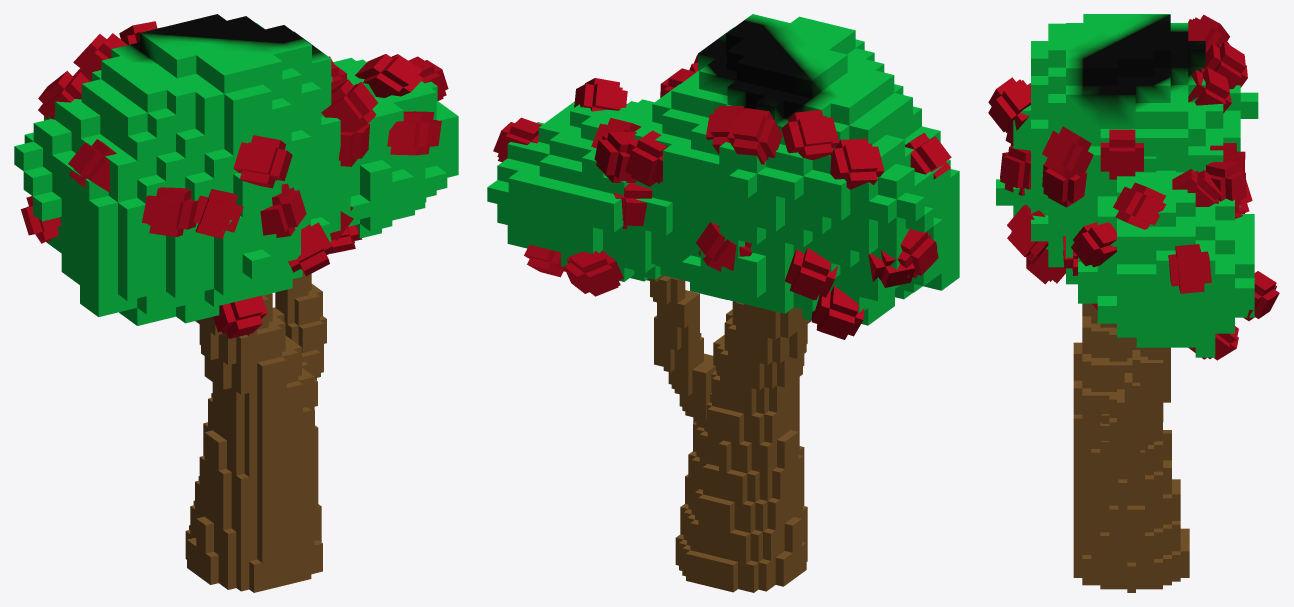
Rendered from appletree.fbx.
The picture shows the model from 3 angles, left to right: view 1: azimuth 30°, elevation 25°; view 2: azimuth 150°, elevation 25°; view 3: azimuth 270°, elevation 25°; orthographic projection. The views are drawn at different scales.
Parts seen in each view (by area): view 1: Sphere, Cylinder, Sphere.001, Cylinder.001, Sphere|Sphere.002|Dupli|10, Sphere|Sphere.002|Dupli|23, Sphere.001|Sphere.002|Dupli|4, Sphere.001|Sphere.002|Dupli|3, Sphere|Sphere.002|Dupli|12, Sphere|Sphere.002|Dupli|24, Sphere|Sphere.002|Dupli|8, Sphere|Sphere.002|Dupli|19 (+7 smaller); view 2: Sphere, Cylinder, Sphere.001, Cylinder.001, Sphere|Sphere.002|Dupli|6, Sphere|Sphere.002|Dupli|20, Sphere|Sphere.002|Dupli|5, Sphere.001|Sphere.002|Dupli|2, Sphere|Sphere.002|Dupli|3, Sphere|Sphere.002|Dupli|4, Sphere|Sphere.002|Dupli|18, Sphere|Sphere.002|Dupli|17 (+9 smaller); view 3: Sphere, Cylinder, Sphere.001, Cylinder.001, Sphere|Sphere.002|Dupli|12, Sphere|Sphere.002|Dupli|22, Sphere.001|Sphere.002|Dupli|6, Sphere.001|Sphere.002|Dupli|4, Sphere|Sphere.002|Dupli|10, Sphere.001|Sphere.002|Dupli|3, Sphere|Sphere.002|Dupli|20, Sphere|Sphere.002|Dupli|17 (+10 smaller).
Part boxes in pixels (x1,y1,x2,y2): Sphere: [14, 14, 350, 325]; Cylinder: [185, 293, 322, 592]; Sphere.001: [333, 57, 458, 238]; Cylinder.001: [275, 271, 326, 424]; Sphere|Sphere.002|Dupli|10: [233, 135, 292, 188]; Sphere|Sphere.002|Dupli|23: [142, 187, 198, 236]; Sphere.001|Sphere.002|Dupli|4: [355, 54, 423, 97]; Sphere.001|Sphere.002|Dupli|3: [387, 111, 441, 155]; Sphere|Sphere.002|Dupli|12: [321, 79, 377, 131]; Sphere|Sphere.002|Dupli|24: [194, 189, 243, 238]; Sphere|Sphere.002|Dupli|8: [260, 183, 306, 237]; Sphere|Sphere.002|Dupli|19: [213, 295, 267, 338]; Sphere: [634, 14, 959, 325]; Cylinder: [675, 301, 810, 592]; Sphere.001: [487, 99, 676, 281]; Cylinder.001: [646, 275, 715, 428]; Sphere|Sphere.002|Dupli|6: [781, 109, 839, 159]; Sphere|Sphere.002|Dupli|20: [727, 108, 782, 164]; Sphere|Sphere.002|Dupli|5: [830, 138, 884, 189]; Sphere.001|Sphere.002|Dupli|2: [563, 250, 623, 296]; Sphere|Sphere.002|Dupli|3: [811, 285, 864, 339]; Sphere|Sphere.002|Dupli|4: [785, 248, 837, 300]; Sphere|Sphere.002|Dupli|18: [625, 130, 667, 186]; Sphere|Sphere.002|Dupli|17: [594, 132, 636, 182]; Sphere: [996, 14, 1258, 284]; Cylinder: [1073, 303, 1189, 592]; Sphere.001: [1078, 156, 1254, 357]; Cylinder.001: [1101, 347, 1170, 464]; Sphere|Sphere.002|Dupli|12: [1042, 126, 1093, 180]; Sphere|Sphere.002|Dupli|22: [1100, 129, 1143, 179]; Sphere.001|Sphere.002|Dupli|6: [1168, 244, 1211, 293]; Sphere.001|Sphere.002|Dupli|4: [1113, 182, 1166, 229]; Sphere|Sphere.002|Dupli|10: [988, 77, 1030, 133]; Sphere.001|Sphere.002|Dupli|3: [1071, 222, 1116, 267]; Sphere|Sphere.002|Dupli|20: [1203, 41, 1247, 89]; Sphere|Sphere.002|Dupli|17: [1200, 161, 1246, 207].
Bounding box in the file's own units: 611 × 723 × 376.
